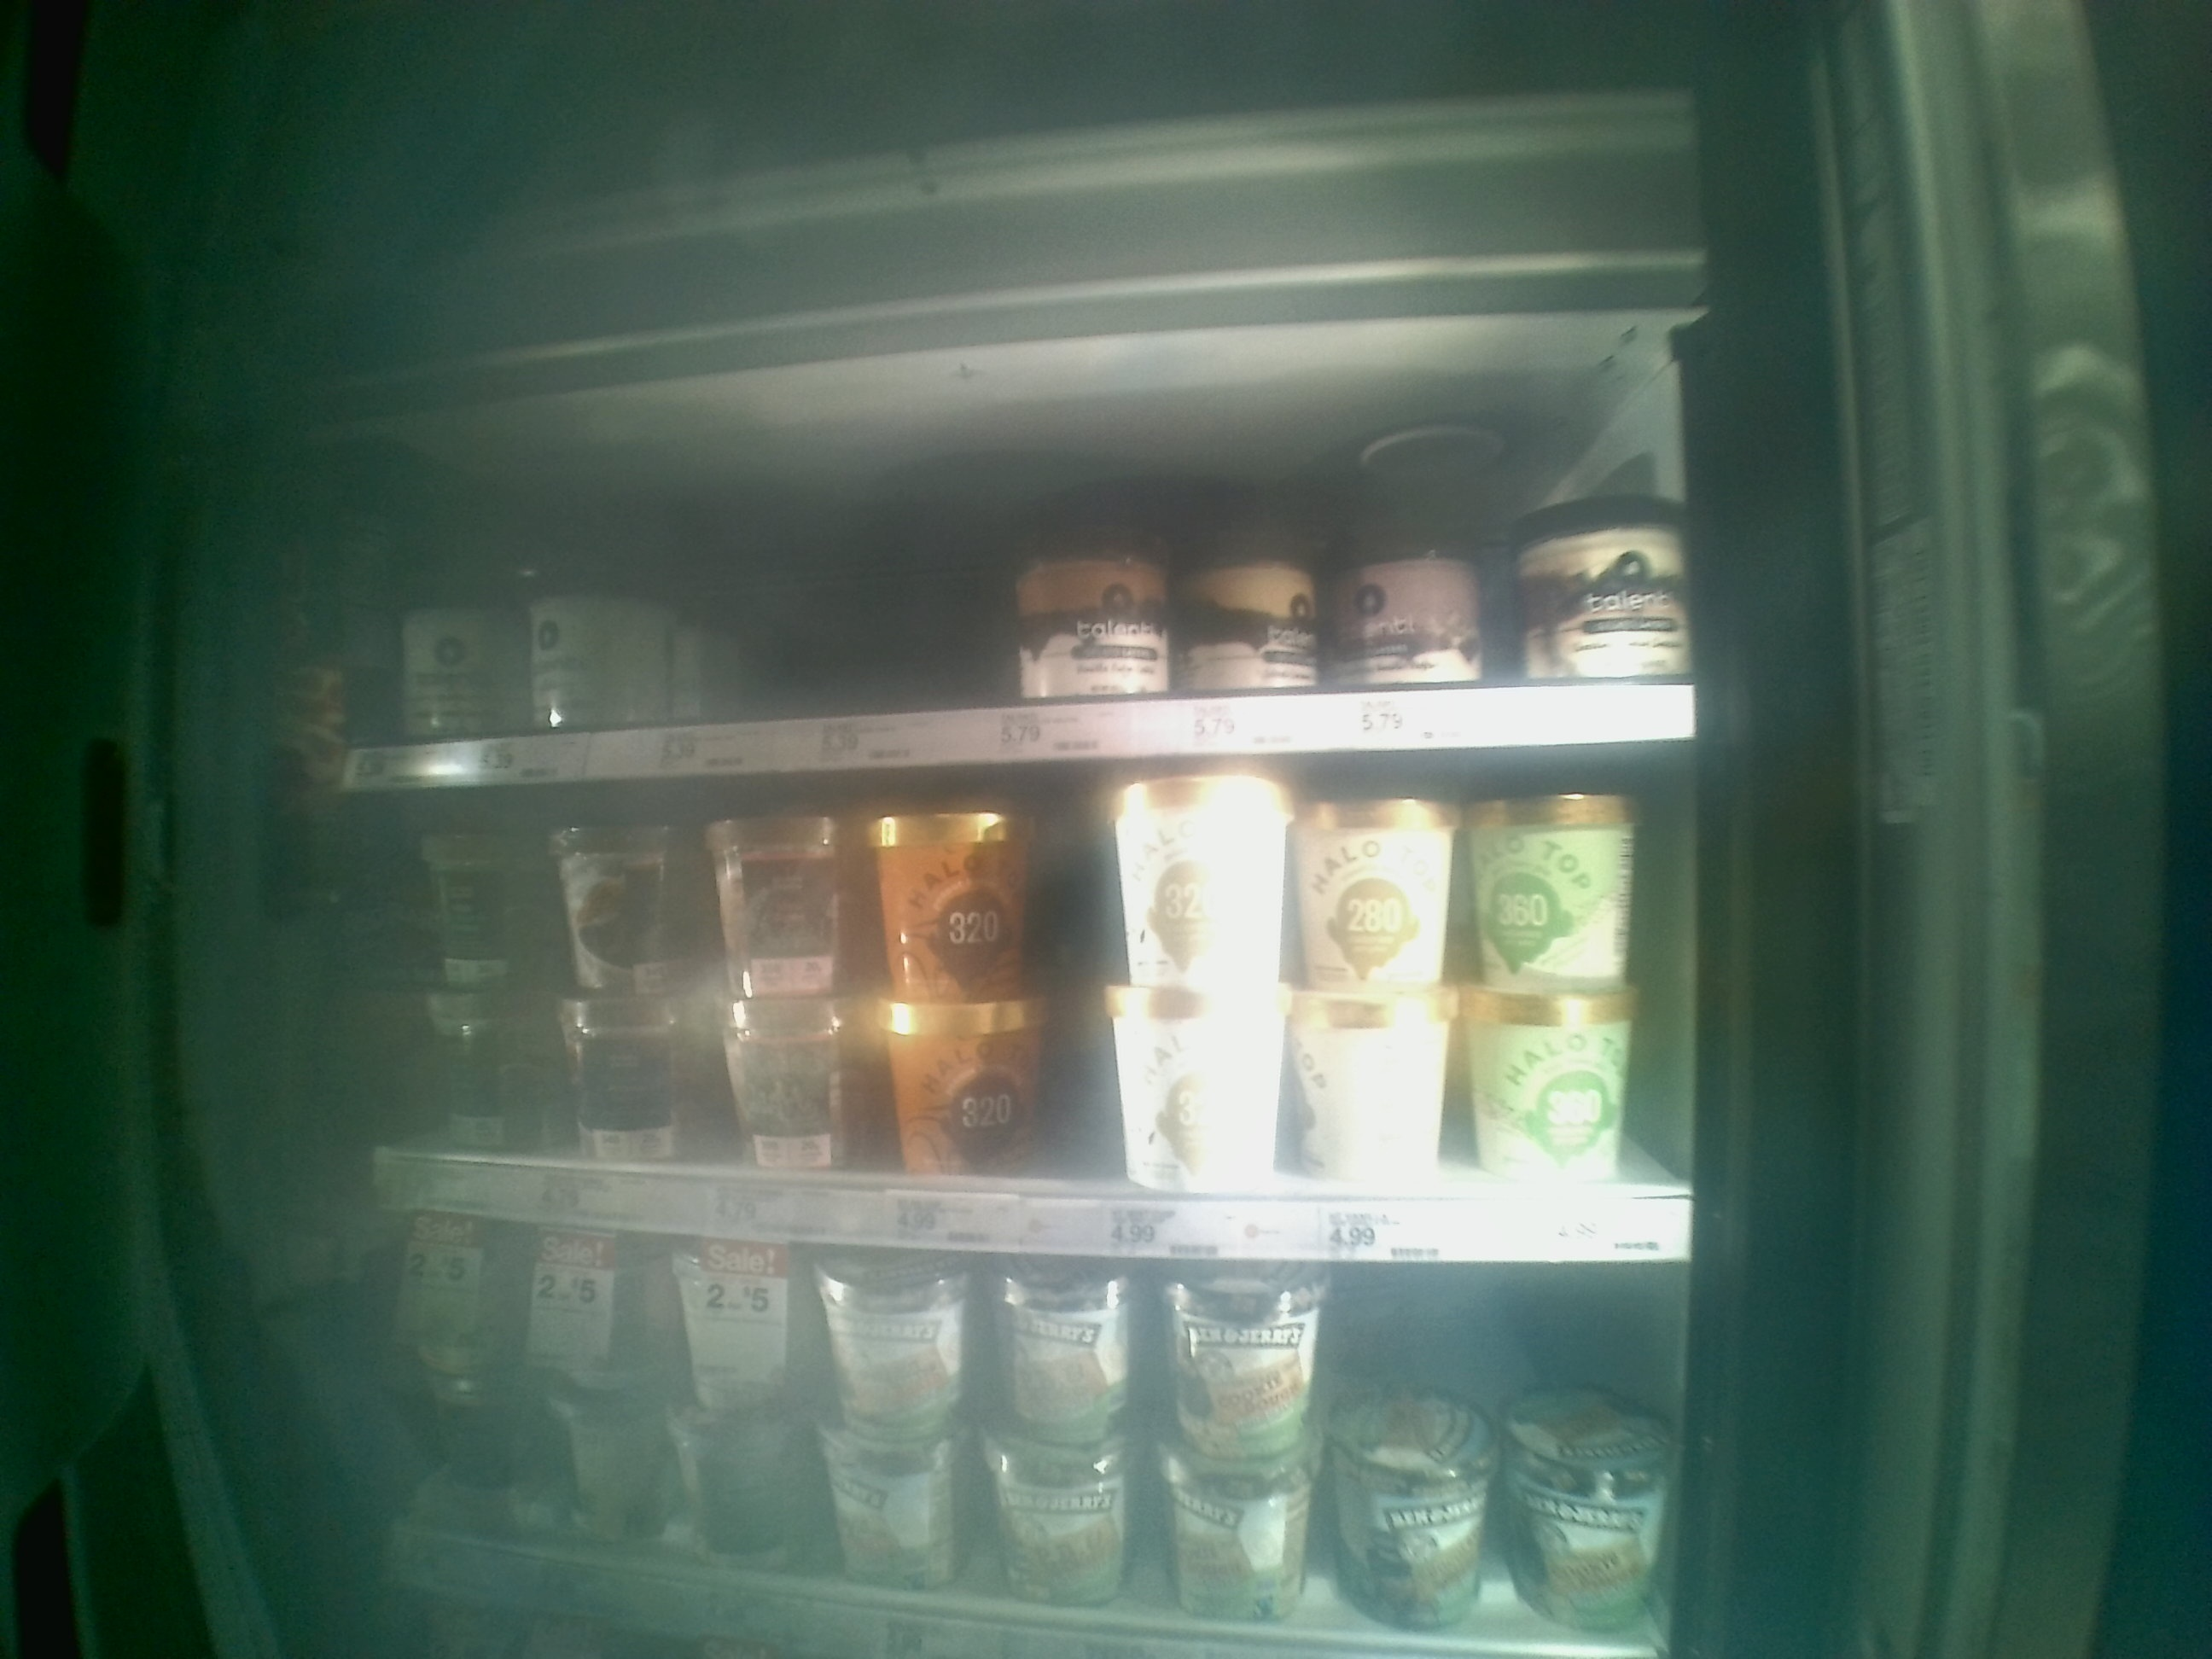shelf: (336, 742, 1696, 1265), (326, 404, 1702, 784)
